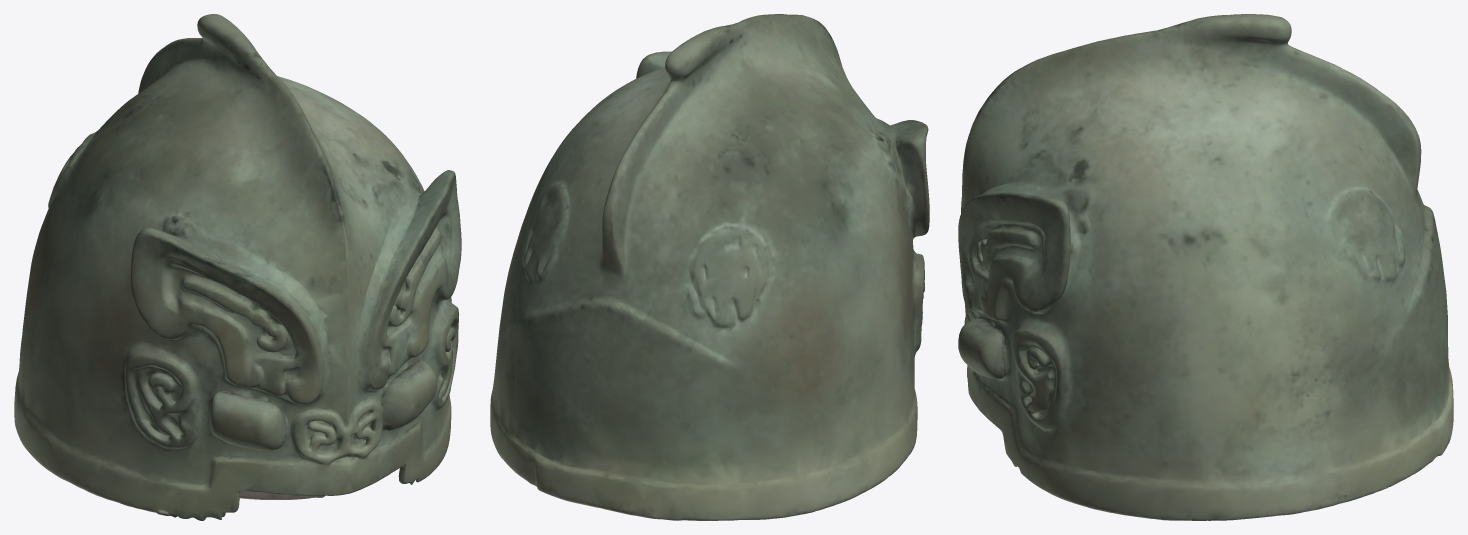
3 renders of one model, left to right at view 1: azimuth 30°, elevation 25°; view 2: azimuth 150°, elevation 25°; view 3: azimuth 270°, elevation 25°, orthographic. The views are drawn at different scales.
Visible parts, largest first — view 1: turned; view 2: turned; view 3: turned.
Part boxes in pixels (x1,y1,x2,y2): turned: (14, 14, 461, 520); turned: (490, 14, 929, 520); turned: (958, 14, 1453, 520).
Bounding box in the file's own units: 0.8973 × 0.9362 × 1.
Materials: 1 (1 with a texture image).
